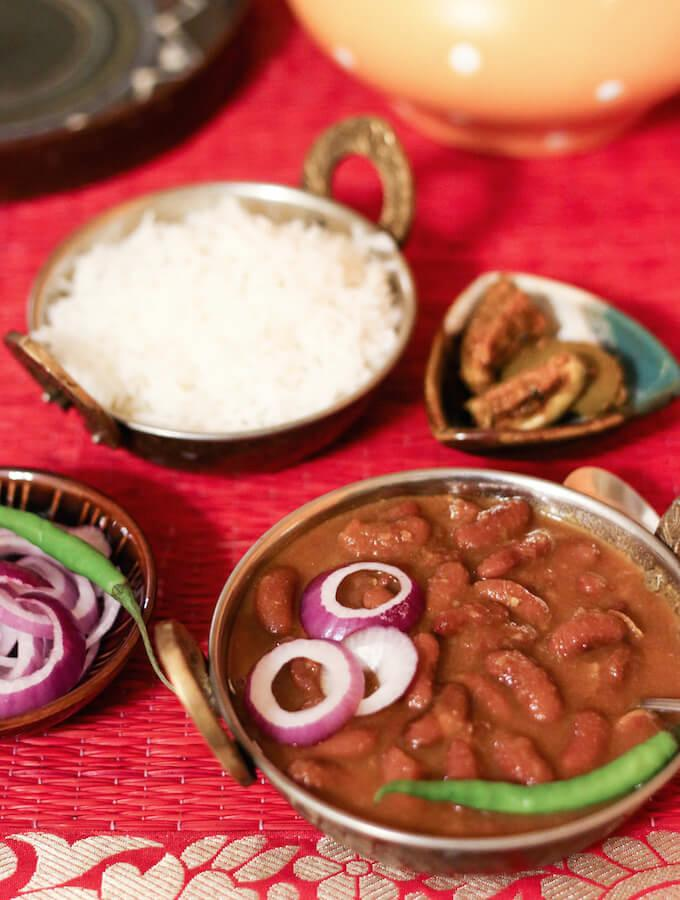rajma: (245, 500, 670, 785)
